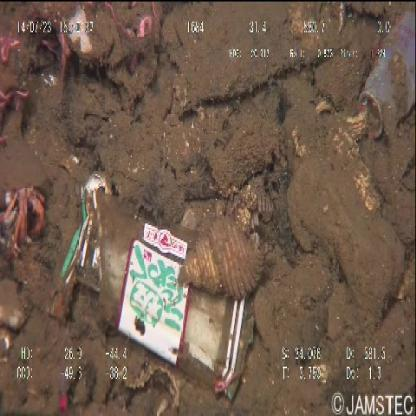Rác: (46, 170, 254, 402), (358, 10, 415, 144)
